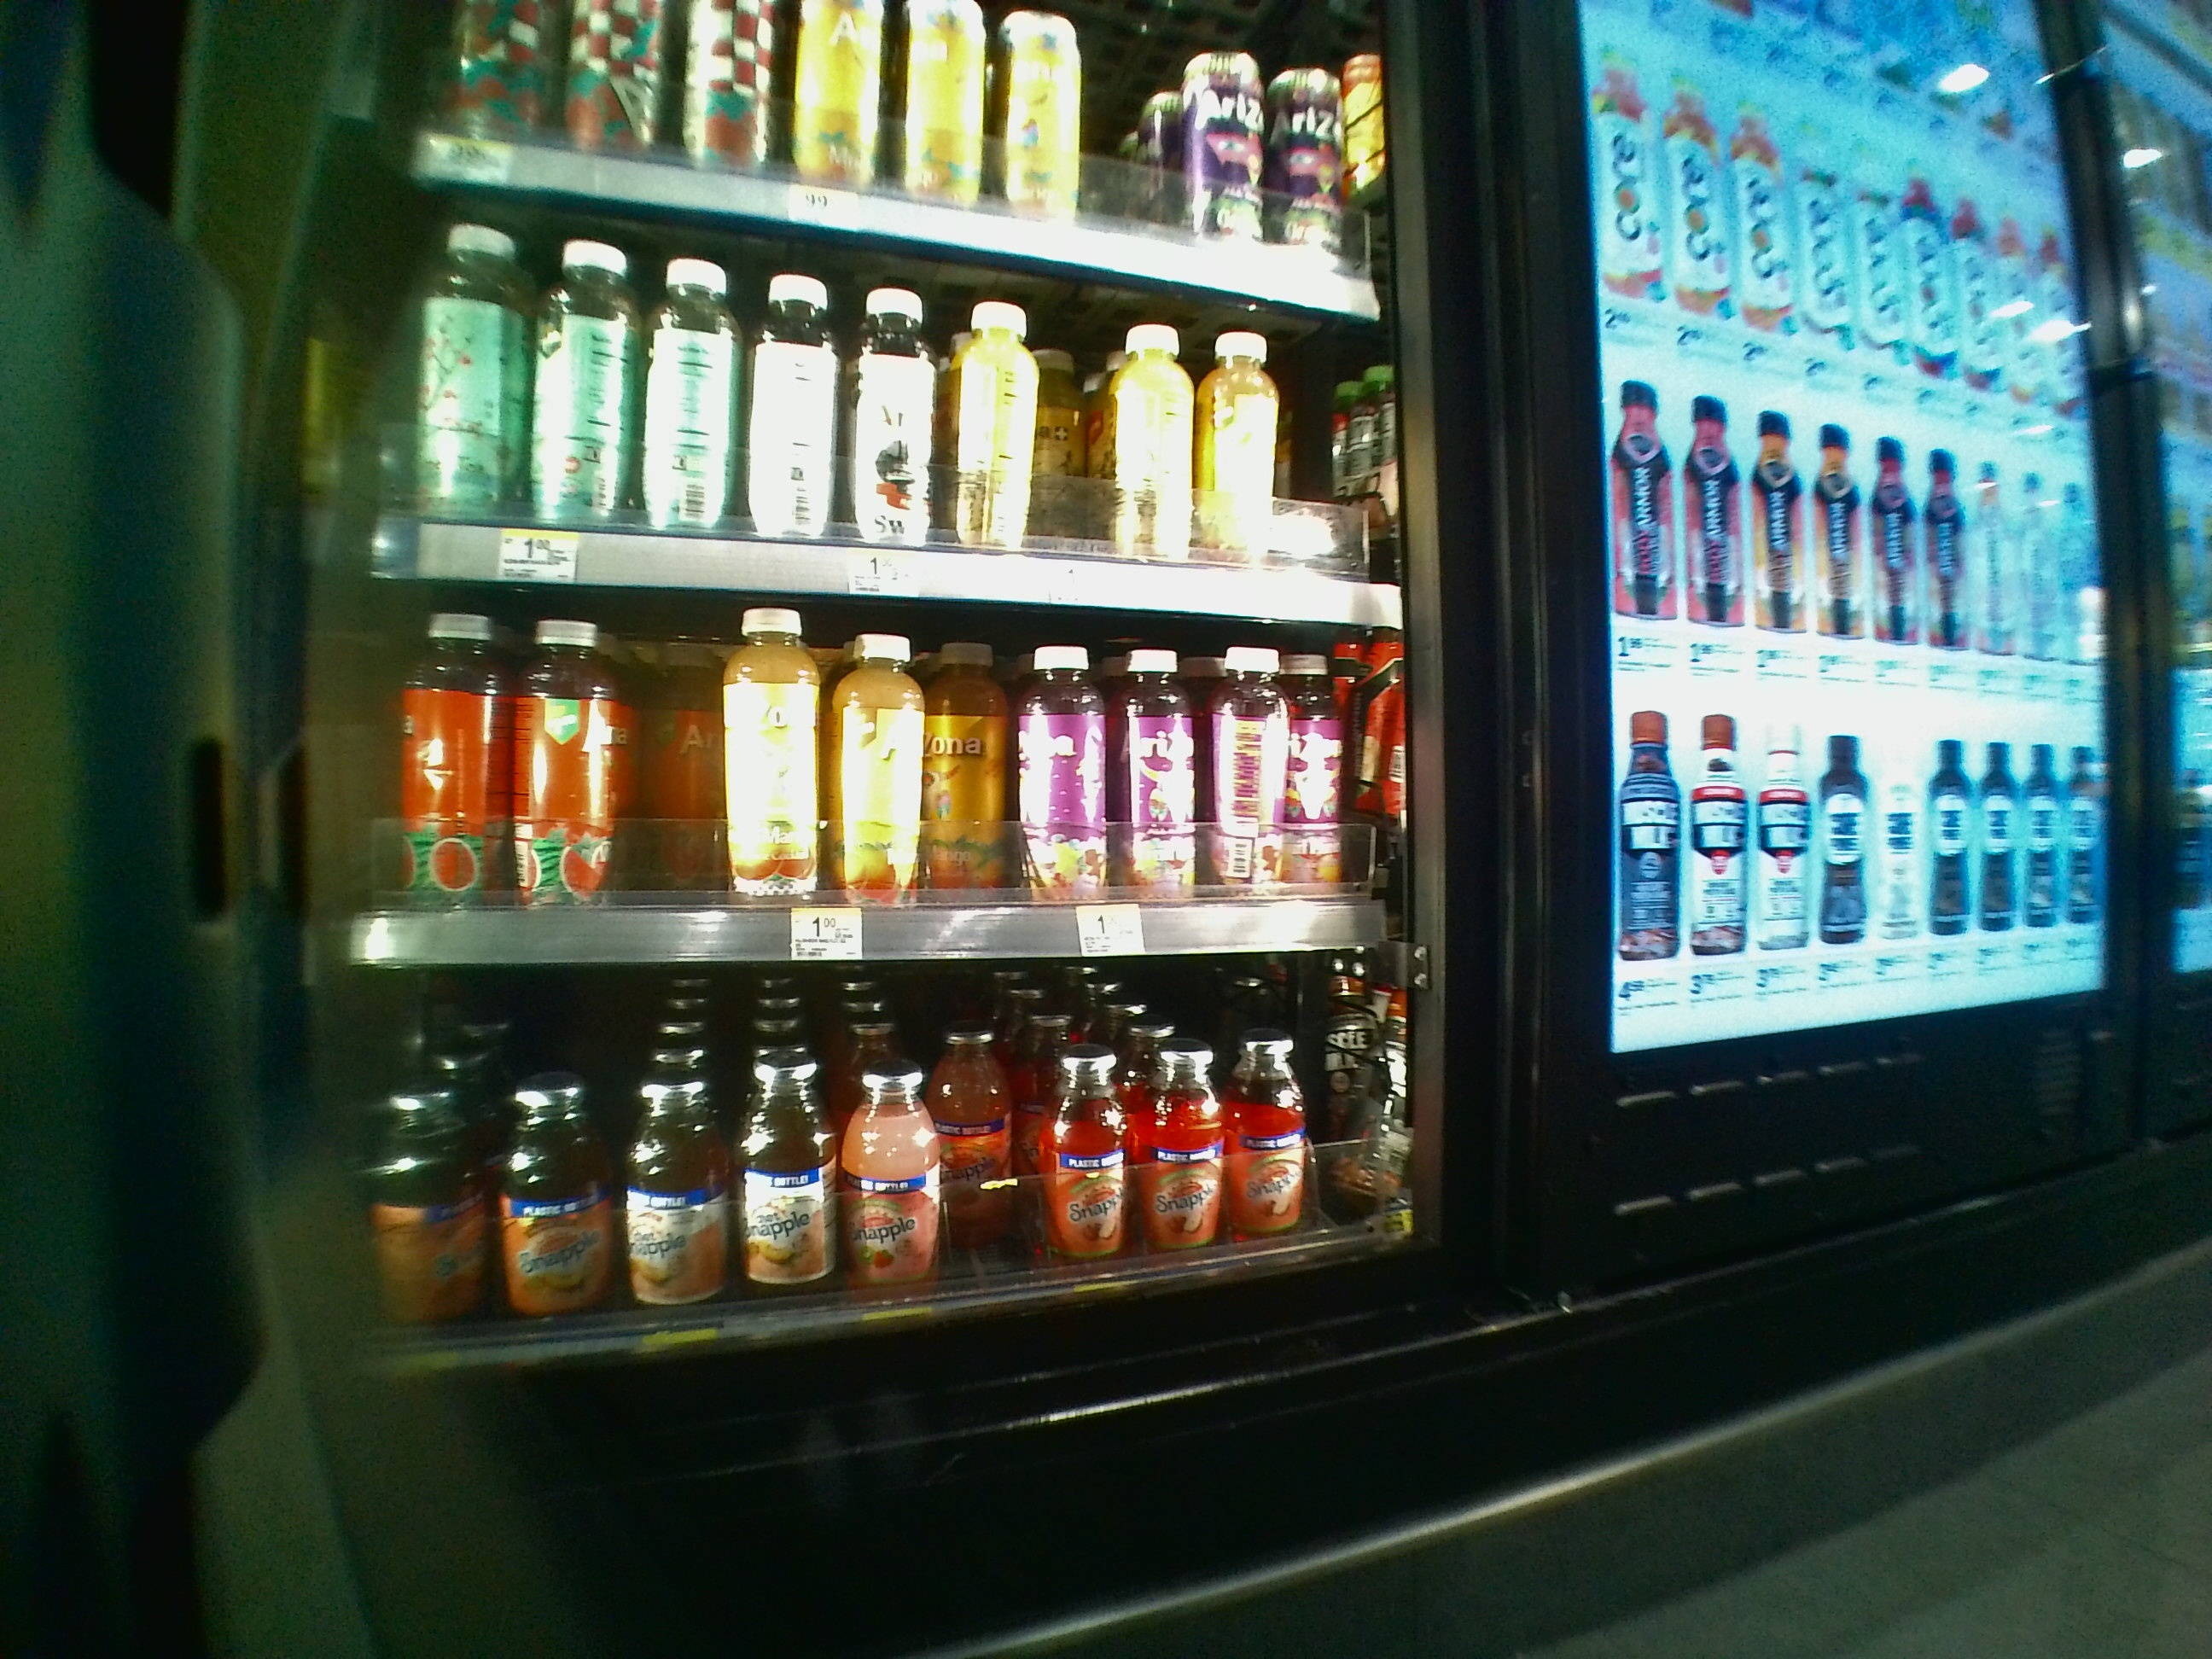shelf: (350, 974, 1407, 1389), (348, 591, 1404, 962)
